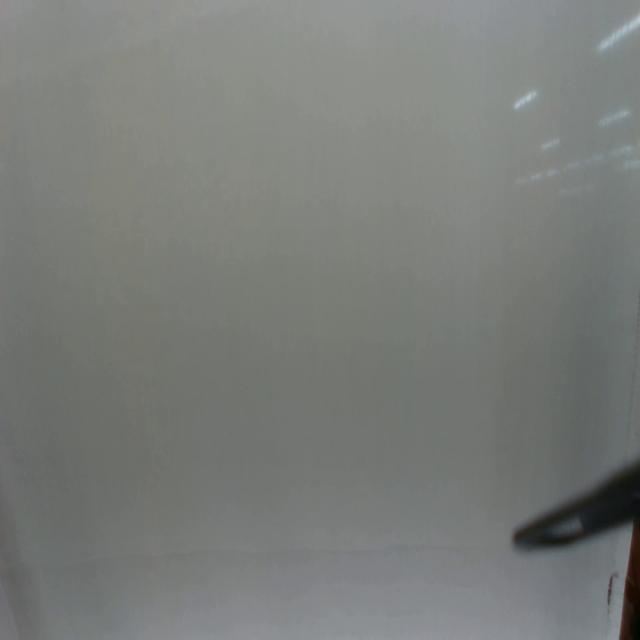color bleeding: (2, 544, 606, 634)
hole: (606, 570, 616, 622)
